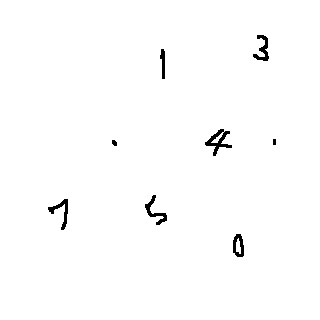.: (267, 131, 281, 156), (109, 134, 121, 150)
0: (217, 227, 256, 264)
1: (148, 46, 179, 87)
3: (246, 26, 278, 70)
4: (197, 121, 241, 168)
5: (133, 190, 190, 237)
7: (45, 191, 77, 238)
